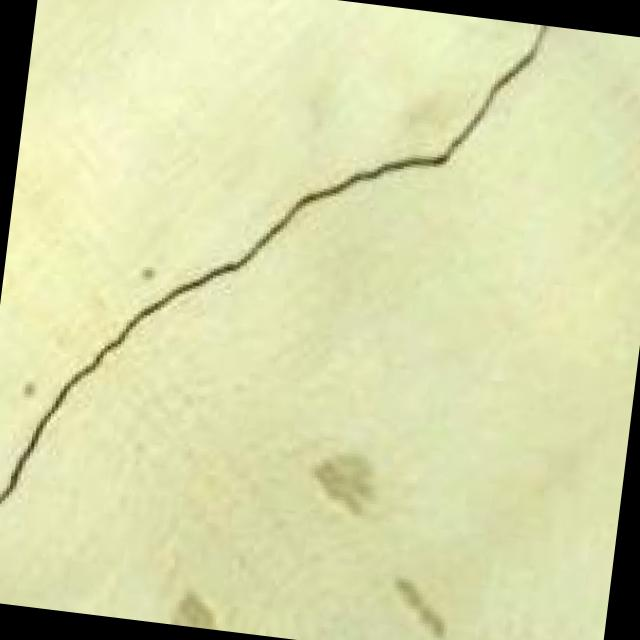crack: (0, 0, 549, 597)
